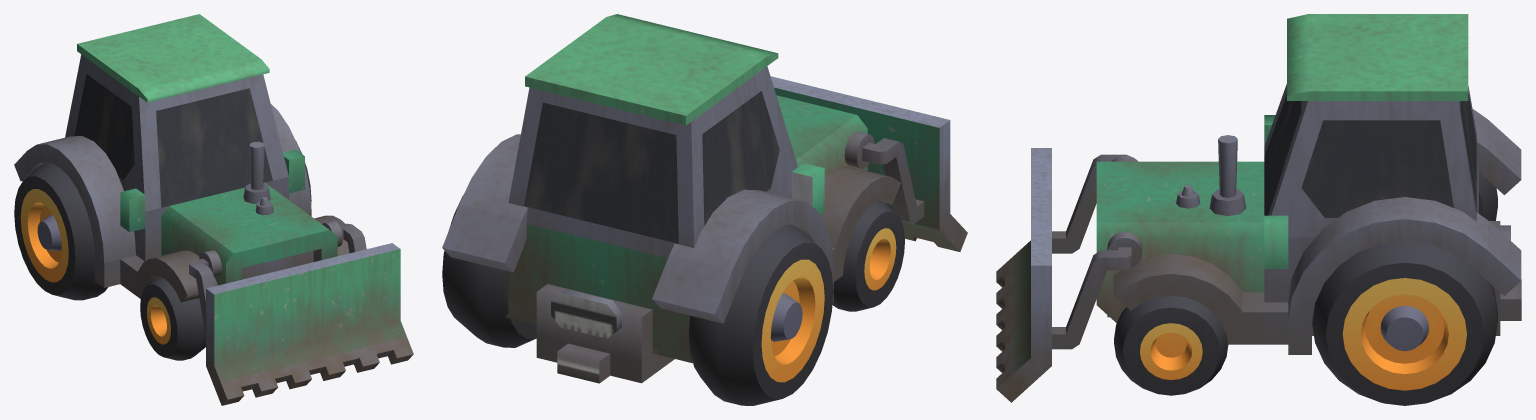
File: tractor-shovel-L3.glb
3 renders of one model, left to right at view 1: azimuth 30°, elevation 25°; view 2: azimuth 150°, elevation 25°; view 3: azimuth 270°, elevation 25°, orthographic. The views are drawn at different scales.
Parts seen in each view (by area): view 1: body, shovel, wheel-back-right, wheel-front-right; view 2: body, wheel-back-right, shovel, wheel-front-right, wheel-back-left; view 3: body, wheel-back-left, shovel, wheel-front-left, wheel-back-right.
Part boxes in pixels (left/top/right/bottom): body: left=14, top=14, right=349, bottom=302; shovel: left=189, top=220, right=413, bottom=405; wheel-back-right: left=14, top=162, right=108, bottom=300; wheel-front-right: left=140, top=276, right=205, bottom=360; body: left=442, top=14, right=900, bottom=383; wheel-back-right: left=689, top=224, right=833, bottom=405; shovel: left=770, top=76, right=967, bottom=251; wheel-front-right: left=832, top=200, right=904, bottom=311; wheel-back-left: left=442, top=195, right=536, bottom=347; body: left=1096, top=14, right=1521, bottom=354; wheel-back-left: left=1312, top=241, right=1497, bottom=405; shovel: left=996, top=148, right=1142, bottom=402; wheel-front-left: left=1114, top=295, right=1228, bottom=395; wheel-back-right: left=1479, top=172, right=1497, bottom=220.
Size of the model in its own units: 1.66 by 1.51 by 2.47.
6 materials, 6 textured.
